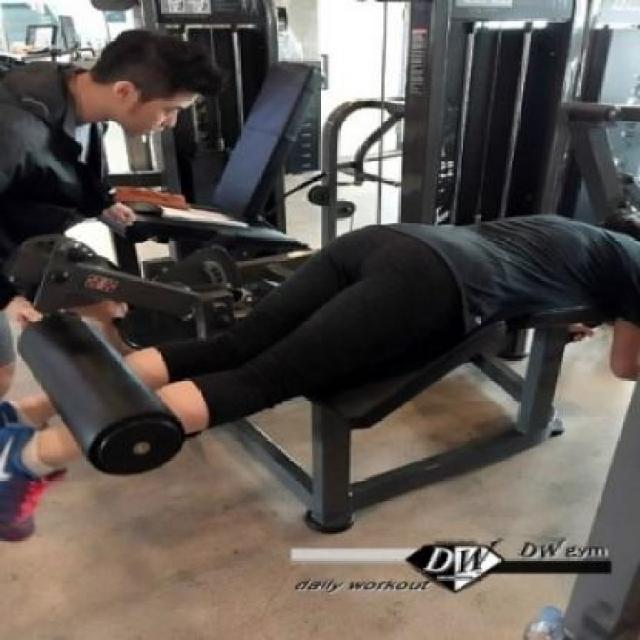reg curl machine: (0, 0, 638, 544)
